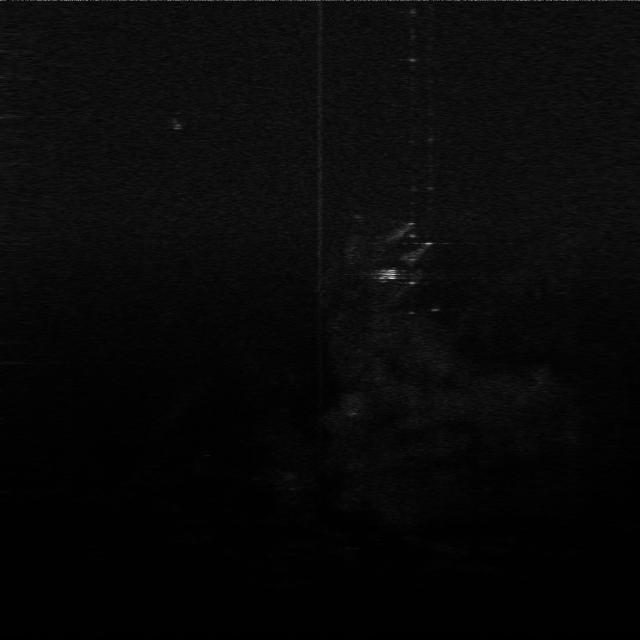rov: (372, 264, 403, 285)
